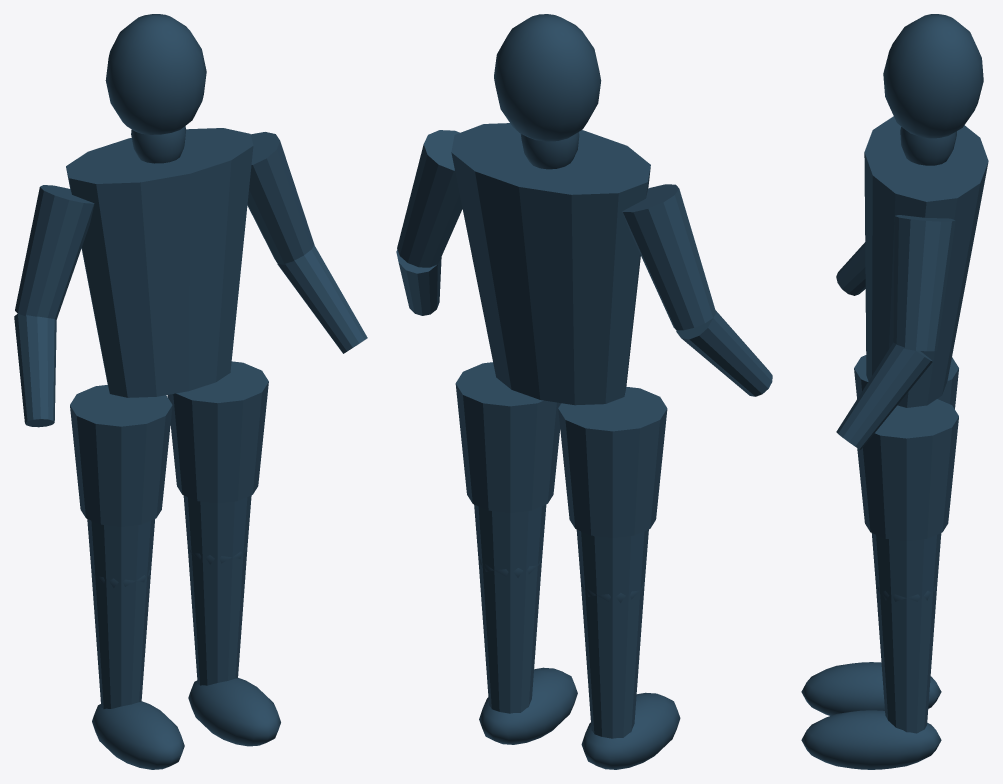
Rendered from head.glb.
The picture shows the model from 3 angles, left to right: view 1: azimuth 30°, elevation 25°; view 2: azimuth 150°, elevation 25°; view 3: azimuth 270°, elevation 25°; orthographic projection. The views are drawn at different scales.
Parts seen in each view (by area): view 1: shirt, left_shorts, right_shorts, head, left_arm, right_shin, left_shin, right_arm, right_boot, left_boot, left_forearm, right_forearm (+3 smaller); view 2: shirt, left_shorts, right_shorts, head, left_arm, right_shin, left_shin, right_arm, right_boot, left_boot, right_thigh, left_thigh (+3 smaller); view 3: shirt, right_shorts, head, right_arm, right_shin, right_boot, right_forearm, left_boot, right_thigh, neck, left_forearm, left_shorts.
Part boxes in pixels (bbox=[...]): shirt: bbox=[66, 128, 253, 397]; left_shorts: bbox=[70, 385, 172, 526]; right_shorts: bbox=[167, 361, 268, 503]; head: bbox=[105, 14, 206, 134]; left_arm: bbox=[15, 185, 94, 319]; right_shin: bbox=[187, 546, 247, 685]; left_shin: bbox=[91, 570, 150, 708]; right_arm: bbox=[247, 132, 314, 264]; right_boot: bbox=[188, 678, 280, 746]; left_boot: bbox=[92, 701, 184, 769]; left_forearm: bbox=[14, 313, 56, 427]; right_forearm: bbox=[277, 245, 367, 353]; shirt: bbox=[451, 123, 650, 405]; left_shorts: bbox=[558, 386, 667, 537]; right_shorts: bbox=[455, 362, 560, 512]; head: bbox=[494, 14, 601, 141]; left_arm: bbox=[622, 184, 716, 330]; right_shin: bbox=[478, 559, 541, 713]; left_shin: bbox=[581, 584, 644, 738]; right_arm: bbox=[397, 130, 462, 267]; right_boot: bbox=[479, 667, 577, 744]; left_boot: bbox=[581, 692, 680, 769]; right_thigh: bbox=[474, 504, 546, 572]; left_thigh: bbox=[576, 529, 648, 597]; shirt: bbox=[864, 116, 988, 407]; right_shorts: bbox=[857, 399, 958, 541]; head: bbox=[883, 14, 983, 138]; right_arm: bbox=[893, 215, 955, 351]; right_shin: bbox=[876, 585, 937, 733]; right_boot: bbox=[801, 710, 941, 769]; right_forearm: bbox=[836, 342, 932, 449]; left_boot: bbox=[801, 662, 941, 715]; right_thigh: bbox=[871, 533, 941, 597]; neck: bbox=[900, 127, 956, 165]; left_forearm: bbox=[836, 242, 865, 295]; left_shorts: bbox=[854, 355, 958, 408].
Size of the model in its own units: 0.9175 by 1.82 by 0.4272.
